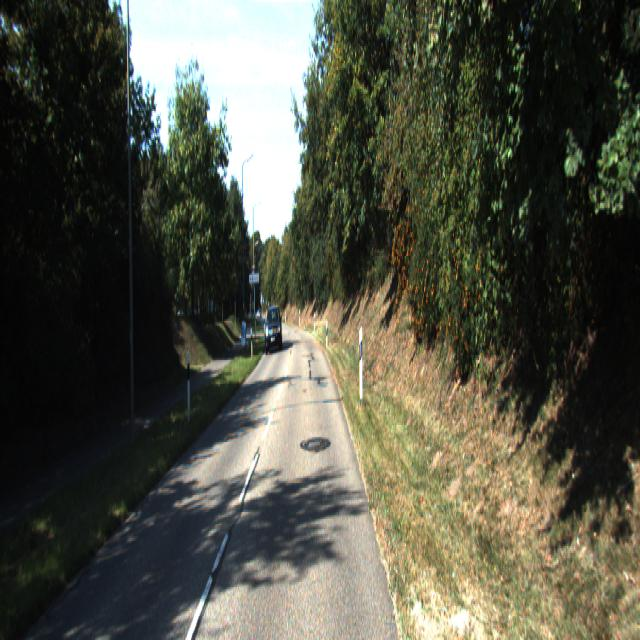Car: (264, 303, 283, 356)
